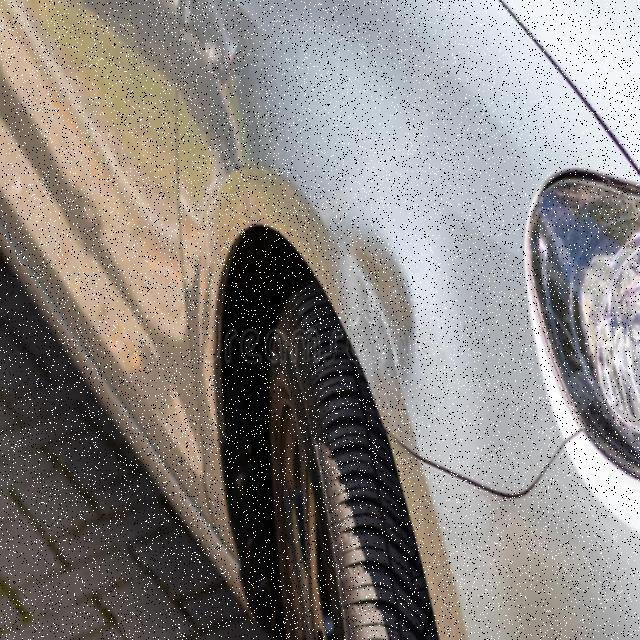fender-dent: (188, 1, 505, 530)
